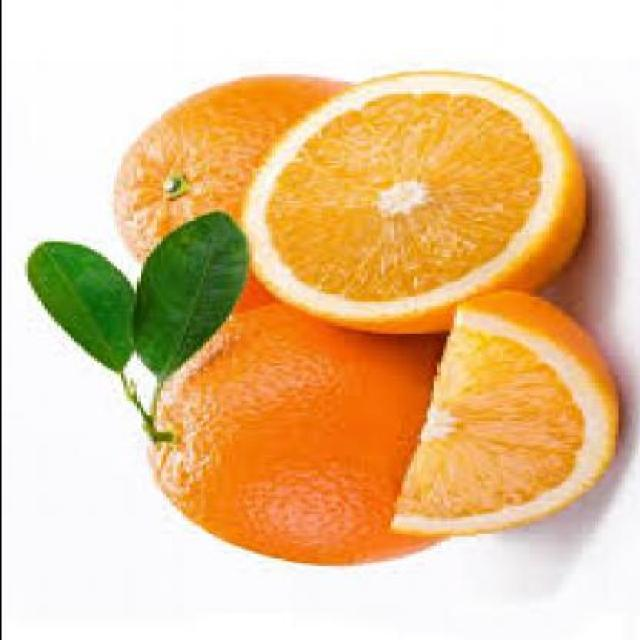BIODEGRADABLE: (242, 74, 585, 334), (152, 278, 446, 566), (392, 292, 617, 537), (114, 75, 352, 266), (24, 240, 170, 443), (131, 212, 251, 388)
